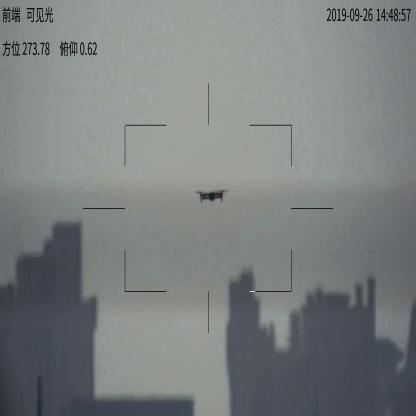uav: (192, 186, 229, 203)
